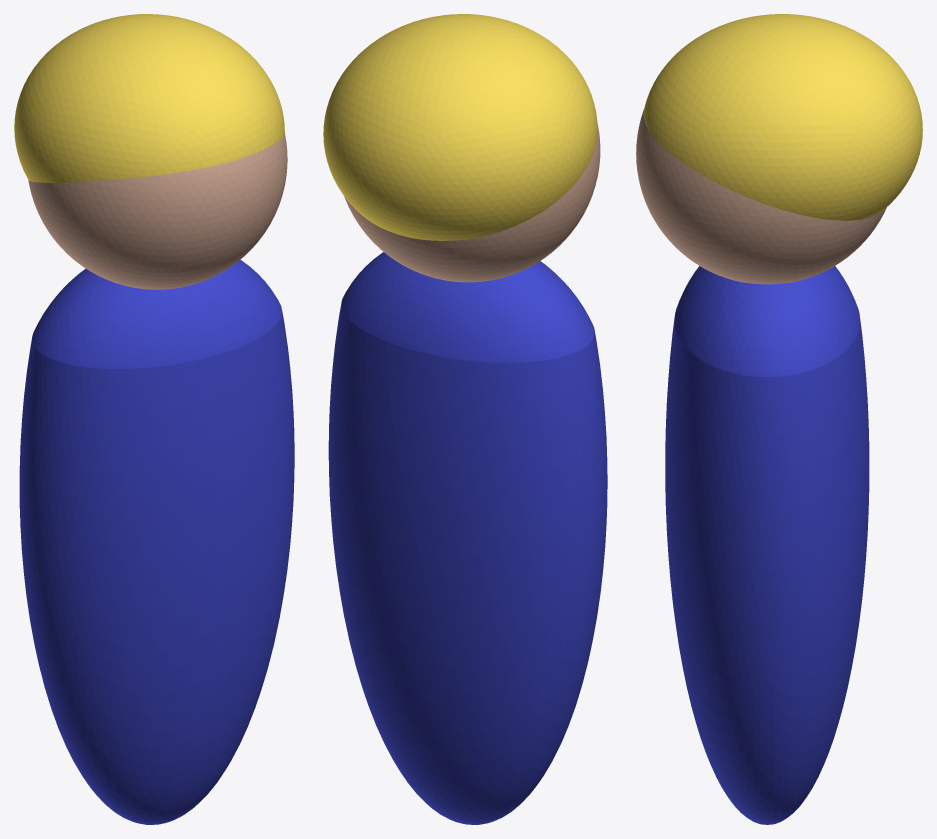
File: Person2.fbx
3 views of the same model, side by side, from view 1: azimuth 30°, elevation 25°; view 2: azimuth 150°, elevation 25°; view 3: azimuth 270°, elevation 25° (orthographic).
Visible parts, largest first — view 1: node_id8 (×3); view 2: node_id8 (×3); view 3: node_id8 (×3).
Boxes of the visible parts, x1=… form: node_id8 (×3): x1=14, y1=14, x2=294, y2=824; node_id8 (×3): x1=323, y1=14, x2=607, y2=824; node_id8 (×3): x1=636, y1=14, x2=922, y2=824.
Bounding box in the file's own units: 0.1742 × 0.512 × 0.1683.
